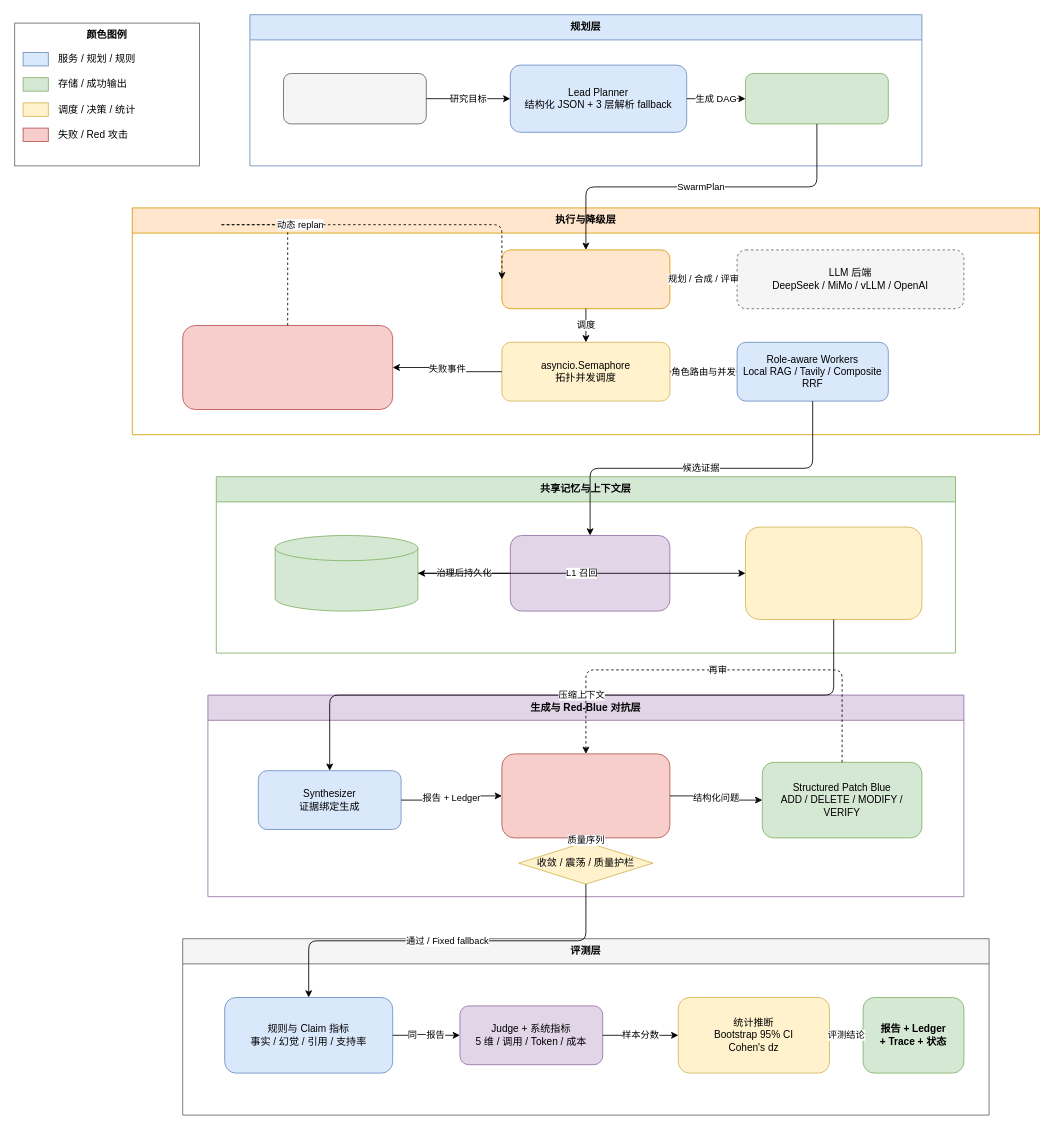
This 1054x1130 diagram has some shape labels left out. The shapes that lost their labels are listed below. From the top down, each one's centre as x and y in pixels, then its label:
At point (354, 98): "用户研究问题".
At point (816, 98): "ResearchPlan DAG + SwarmPolicy 依赖校验 / 复杂度 / 1-3-5 角色".
At point (585, 279): "Async DAG Orchestrator 9 状态机 + BudgetController".
At point (287, 367): "三级降级策略 ①单任务 timeout ②批量失败 replan ③全局 timeout 强制合成".
At point (346, 573): "SQLite 共享记忆 + 向量索引".
At point (589, 573): "检索与写前治理 相关性 / 权威度 / 去重 矛盾检测".
At point (833, 573): "上下文压缩 L1 Embedding 粗过滤 L2 TextRank 细筛选 L3 Top 证据原文保留".
At point (585, 795): "Claim Verifier + Red 事实 / 推断 / 引用 / 冲突".
